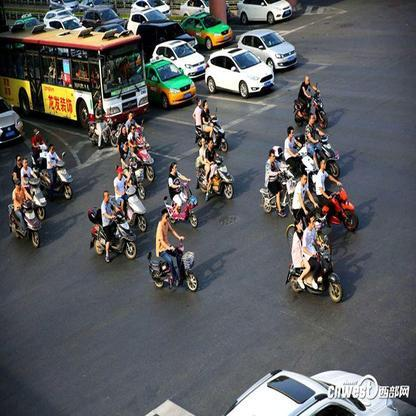target: (287, 212, 345, 304), (145, 209, 199, 293), (86, 190, 138, 264), (316, 158, 360, 232), (301, 113, 342, 176), (194, 138, 235, 199), (163, 162, 202, 226), (114, 166, 149, 231), (7, 181, 41, 247), (260, 147, 290, 218), (193, 97, 233, 150), (12, 156, 45, 219), (39, 145, 75, 199), (293, 75, 330, 127)
